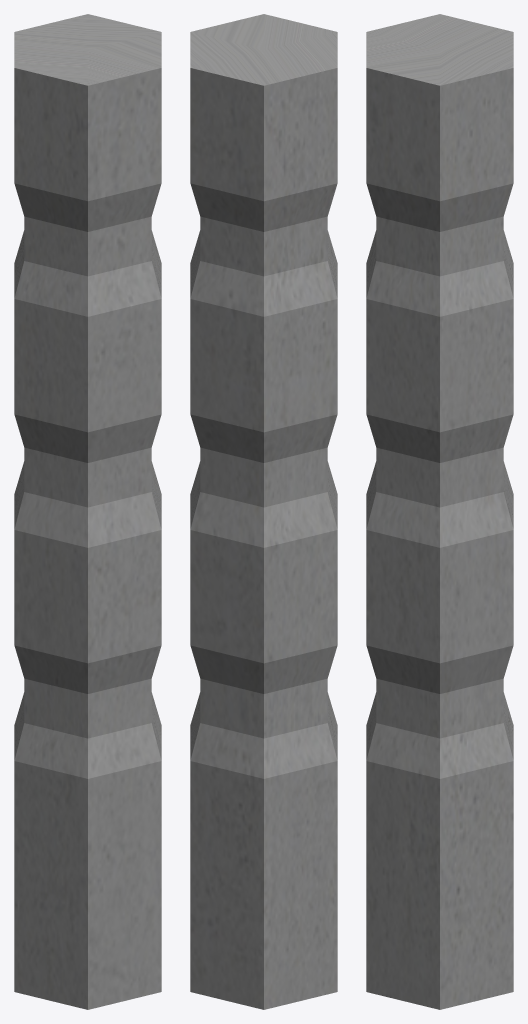
Rendered from Wall_Column_01.FBX.
3 renders of one model, left to right at view 1: azimuth 30°, elevation 25°; view 2: azimuth 150°, elevation 25°; view 3: azimuth 270°, elevation 25°, orthographic.
Parts seen in each view (by area): view 1: Wall_Column_01_mesh; view 2: Wall_Column_01_mesh; view 3: Wall_Column_01_mesh.
Boxes of the visible parts, x1,y1,x2,y2 form: Wall_Column_01_mesh: (14,14,161,1009); Wall_Column_01_mesh: (190,14,337,1009); Wall_Column_01_mesh: (366,14,513,1009).
Bounding box in the file's own units: 50 × 300 × 43.3.
1 material, 1 textured.
